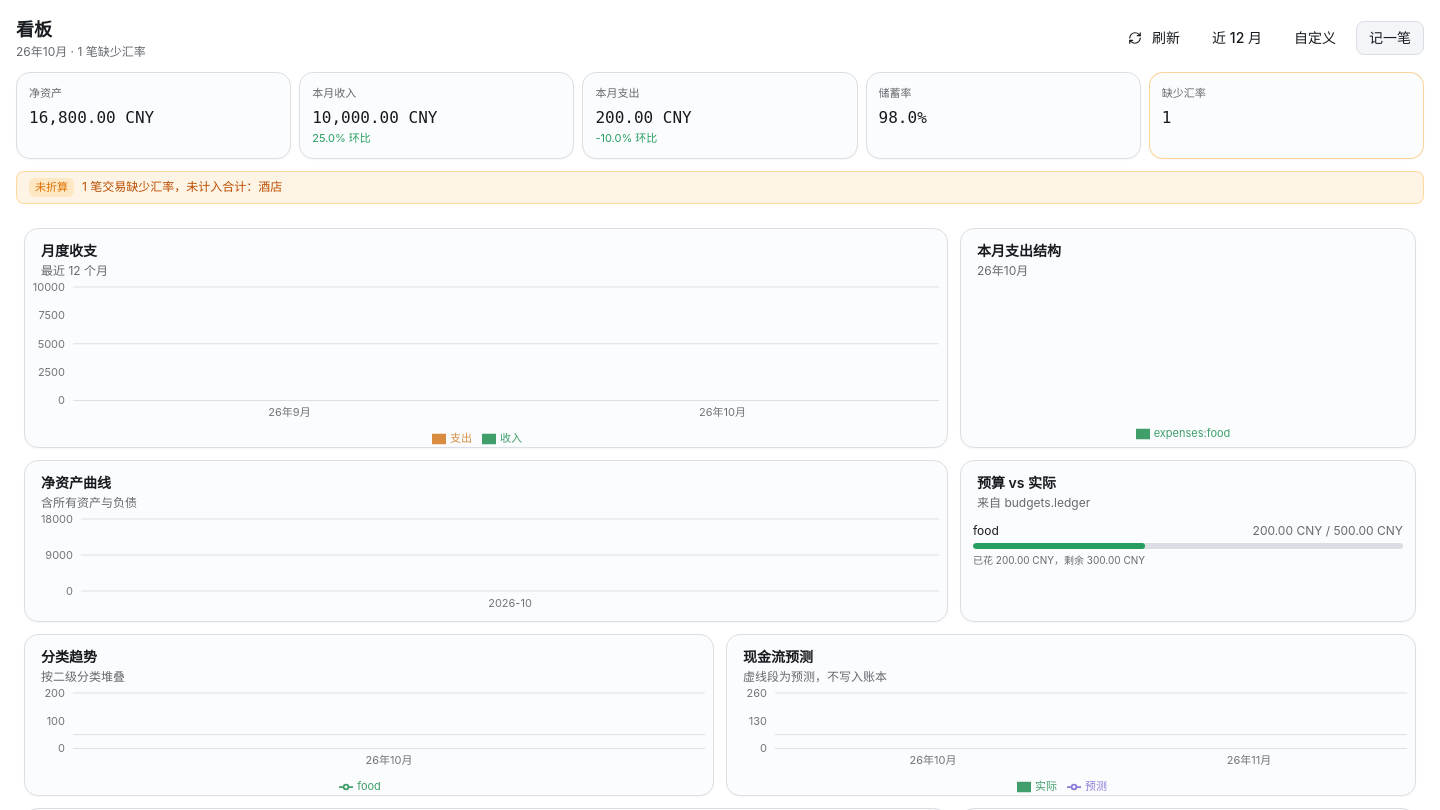
Dashboard › shows why a refresh failed instead of pretending it worked
The width and height of the screenshot is (1440, 810).
Check: the text "16,800.00 CNY" is shown, box [29,108,154,126]
Click the button with aria-label "刷新账本" at (1154, 38), box [1116,22,1192,54]
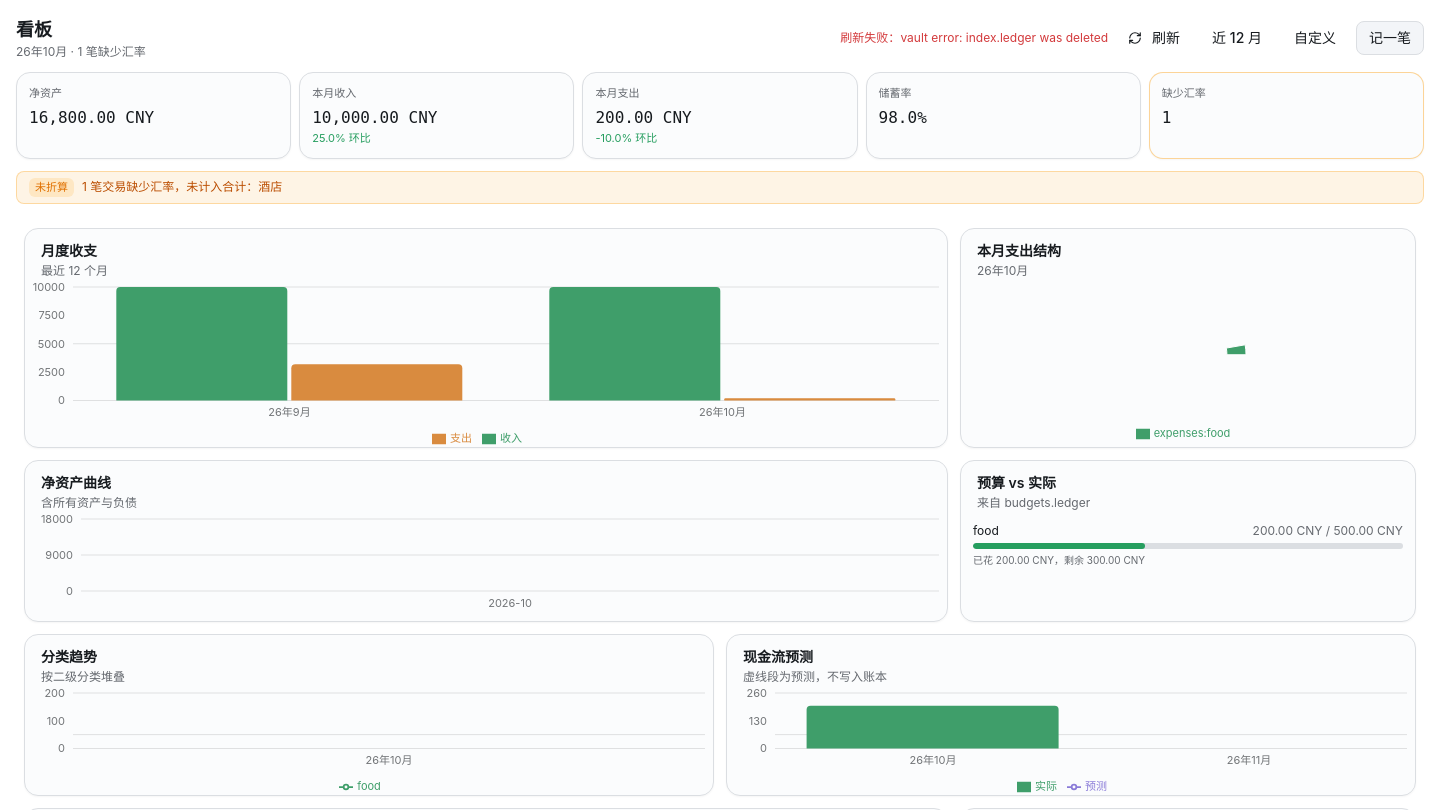
Check: the text "刷新失败：vault error: index.ledger was deleted" is shown, box [840,30,1108,46]
